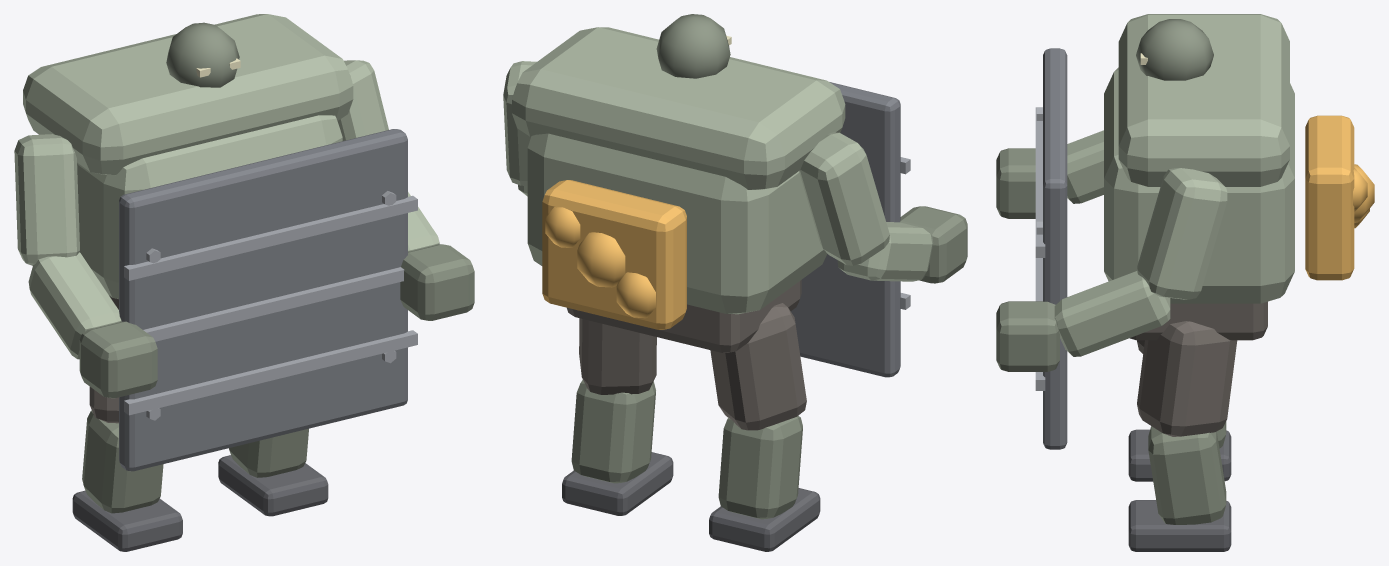
Rendered from enemy_plated.fbx.
The picture shows the model from 3 angles, left to right: view 1: azimuth 30°, elevation 25°; view 2: azimuth 150°, elevation 25°; view 3: azimuth 270°, elevation 25°; orthographic projection.
Parts seen in each view (by area): view 1: enemy_plated, ArmR, LegR.002, ArmL, LegL.002, Head; view 2: enemy_plated, LegR.002, LegL.002, ArmR, Head, ArmL; view 3: enemy_plated, LegL.002, ArmL, ArmR, Head, LegR.002.
Boxes of the visible parts, bbox=[...] form: enemy_plated: bbox=[23, 14, 417, 471]; ArmR: bbox=[14, 134, 157, 398]; LegR.002: bbox=[72, 387, 182, 551]; ArmL: bbox=[337, 60, 474, 320]; LegL.002: bbox=[218, 428, 328, 516]; Head: bbox=[166, 22, 240, 87]; enemy_plated: bbox=[512, 27, 910, 377]; LegR.002: bbox=[709, 303, 820, 551]; LegL.002: bbox=[562, 318, 673, 515]; ArmR: bbox=[799, 132, 967, 283]; Head: bbox=[656, 14, 731, 78]; ArmL: bbox=[503, 61, 536, 196]; enemy_plated: bbox=[1035, 14, 1374, 449]; LegL.002: bbox=[1128, 321, 1237, 551]; ArmL: bbox=[996, 168, 1227, 371]; ArmR: bbox=[996, 130, 1103, 218]; Head: bbox=[1136, 19, 1213, 80]; LegR.002: bbox=[1128, 340, 1231, 481].
Size of the model in its own units: 1.74 by 2.17 by 1.55.
